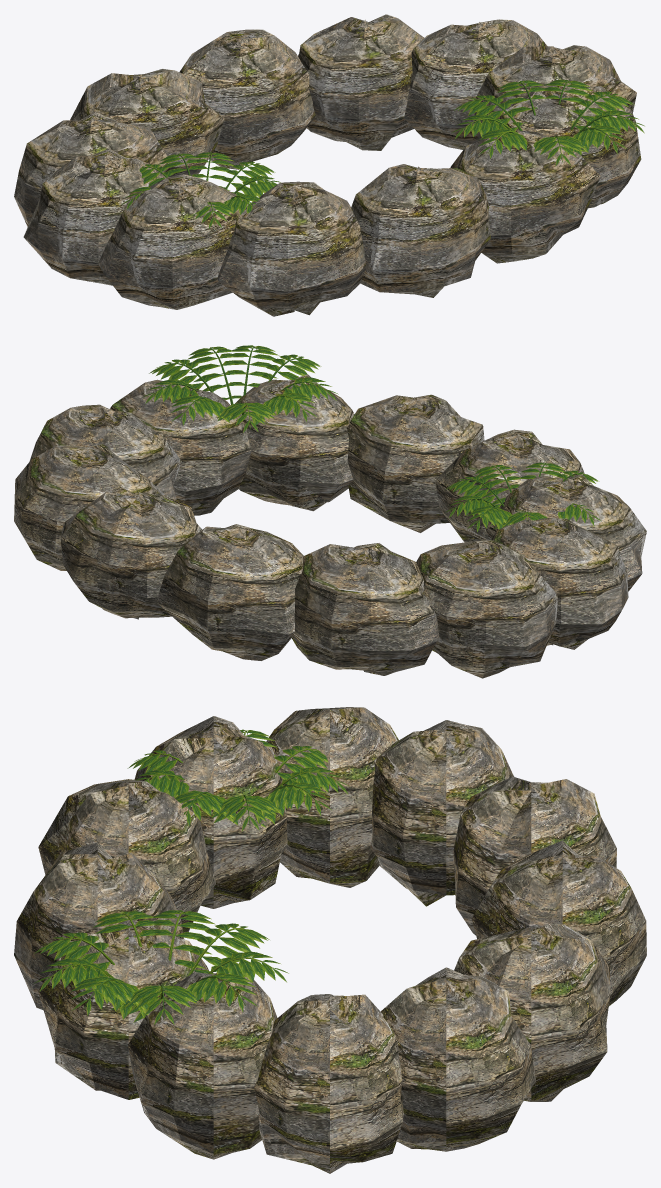
File: LagoonBoulders.fbx
3 views of the same model, one above another, from view 1: azimuth 30°, elevation 25°; view 2: azimuth 150°, elevation 25°; view 3: azimuth 270°, elevation 25° (orthographic). The views are drawn at different scales.
Visible parts, largest first — view 1: LagoonBoulders_LOD0; view 2: LagoonBoulders_LOD0; view 3: LagoonBoulders_LOD0.
Boxes of the visible parts, x1,y1,x2,y2 form: LagoonBoulders_LOD0: (14, 14, 644, 316); LagoonBoulders_LOD0: (14, 345, 646, 678); LagoonBoulders_LOD0: (14, 707, 646, 1173).
Size of what is drawn, in the model's own units: 5.81 by 1.21 by 4.08.
